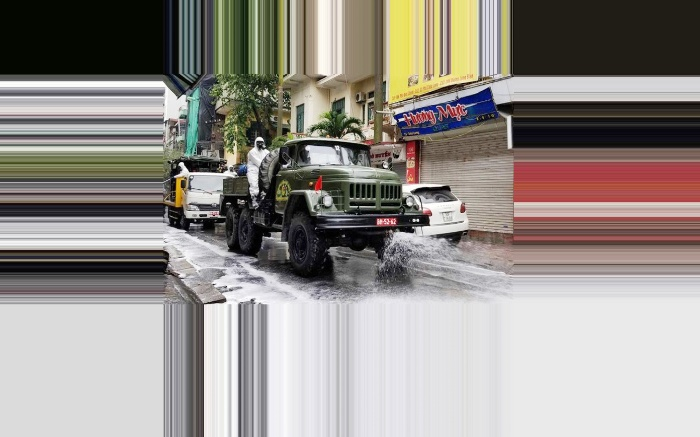plate: (372, 215, 397, 228)
